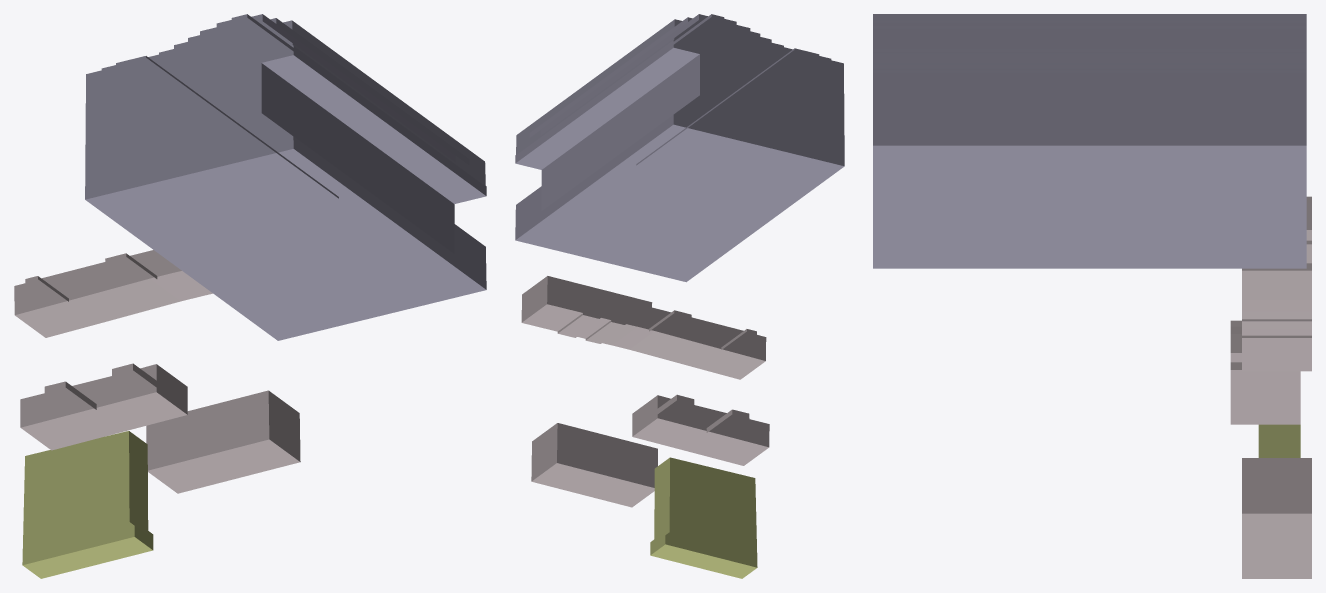
3 renders of one model, left to right at view 1: azimuth 30°, elevation 25°; view 2: azimuth 150°, elevation 25°; view 3: azimuth 270°, elevation 25°, orthographic. The views are drawn at different scales.
Visible parts, largest first — view 1: 0_3_1_3_0_3_3; view 2: 0_3_1_3_0_3_3; view 3: 0_3_1_3_0_3_3.
Part boxes in pixels (left/top/right/bottom): 0_3_1_3_0_3_3: left=14, top=14, right=486, bottom=578; 0_3_1_3_0_3_3: left=515, top=14, right=844, bottom=578; 0_3_1_3_0_3_3: left=873, top=14, right=1311, bottom=578.
Size of the model in its own units: 77.07 by 131 by 94.1.
